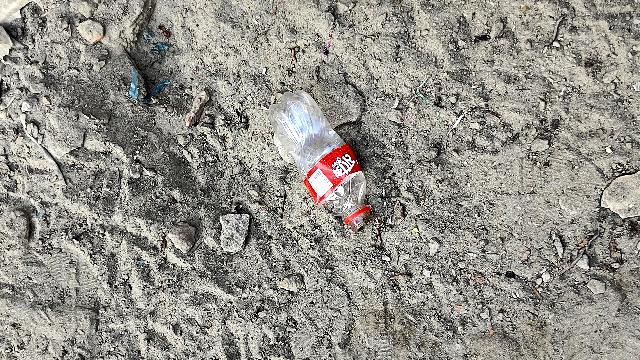bottle: (245, 56, 405, 248)
